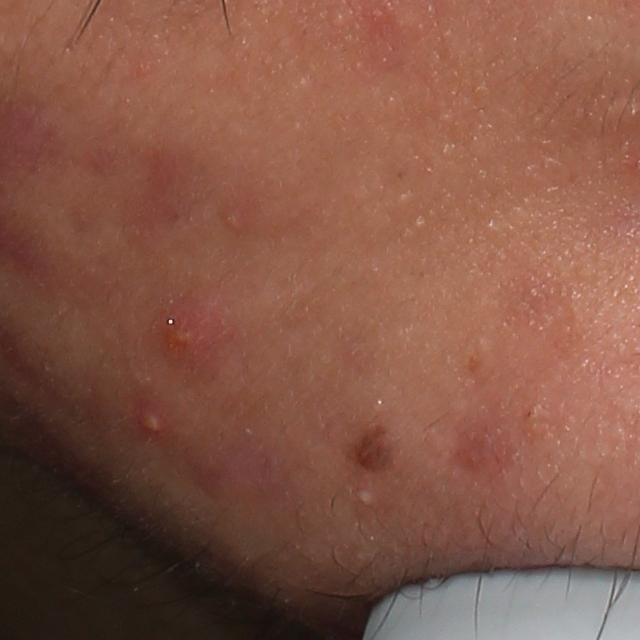nevus: (349, 418, 402, 478)
papule: (153, 295, 230, 386)
pustule: (122, 397, 178, 450), (346, 486, 385, 513)
